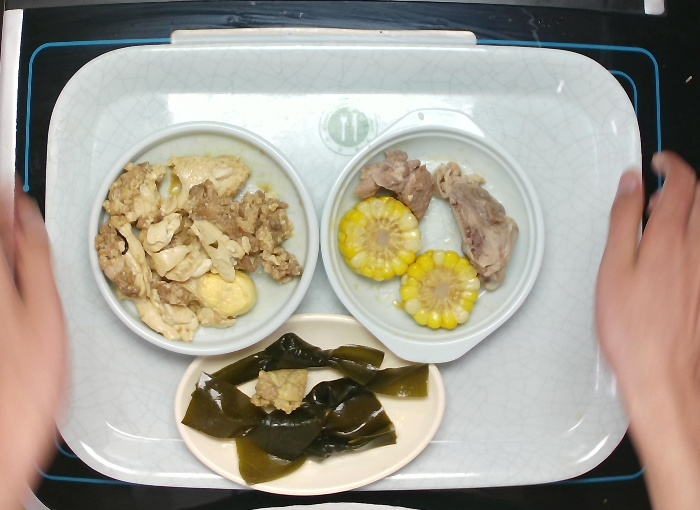JYsf-Shuang_Er_Pan: (318, 99, 549, 370)
JYsf-Tuo_Yuan_Wan: (174, 309, 450, 501)
JYsf-Xiao_Yuan_Pan: (84, 113, 321, 360)
